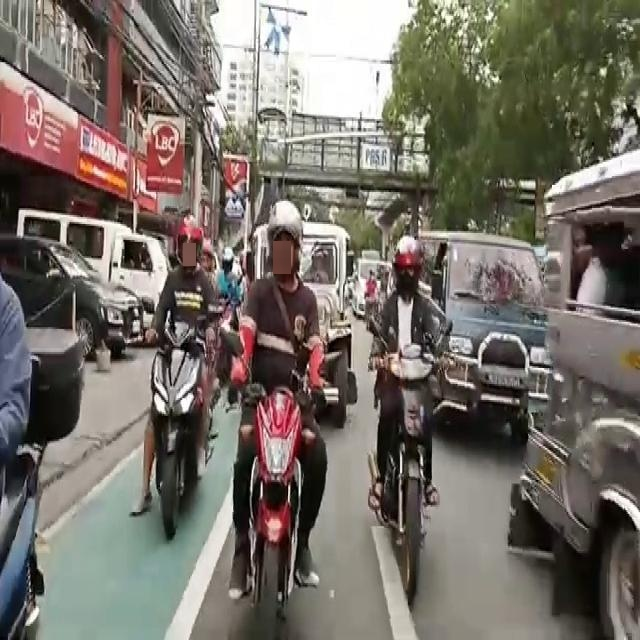car: (426, 229, 548, 447), (2, 238, 146, 362)
jeepney: (549, 176, 640, 620), (301, 216, 357, 429), (250, 198, 303, 277)
motorcycle: (248, 225, 310, 619), (384, 250, 437, 593), (159, 222, 197, 550)
